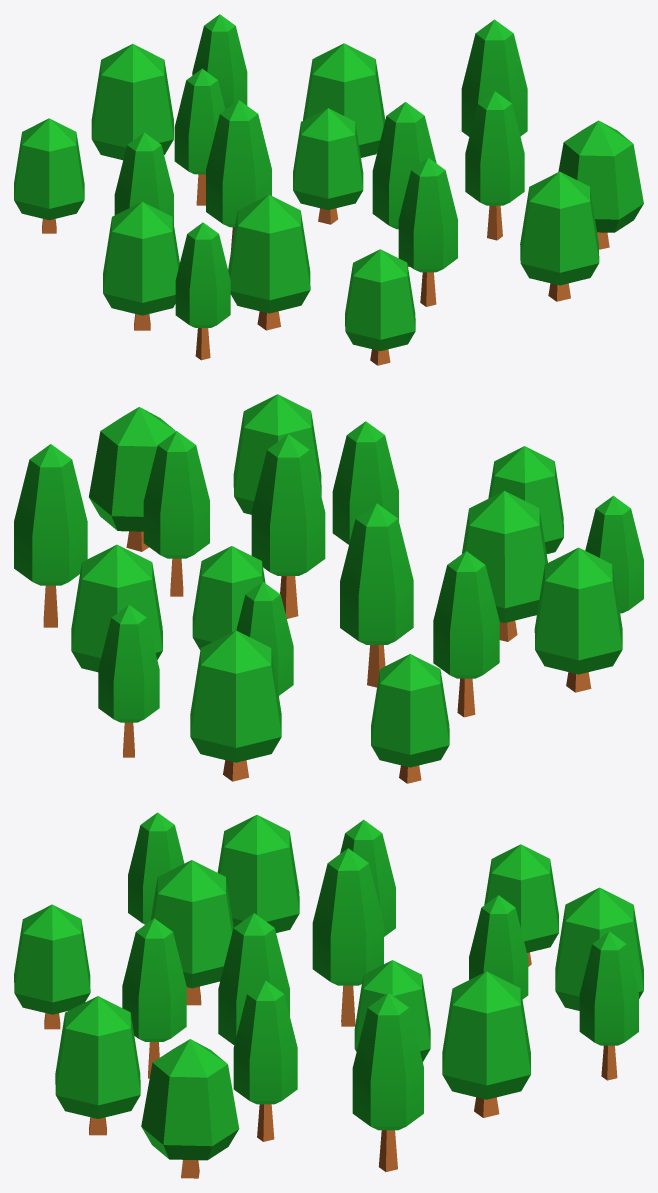
File: nature_forestFlat.fbx
3 renders of one model, top to bottom at view 1: azimuth 30°, elevation 25°; view 2: azimuth 150°, elevation 25°; view 3: azimuth 270°, elevation 25°, orthographic. The views are drawn at different scales.
Parts seen in each view (by area): view 1: Forest; view 2: Forest; view 3: Forest.
Boxes of the visible parts, <box> form: Forest: <box>14,14,643,365</box>; Forest: <box>14,394,643,783</box>; Forest: <box>14,812,643,1178</box>.
Bounding box in the file's own units: 169 × 52.39 × 170.
